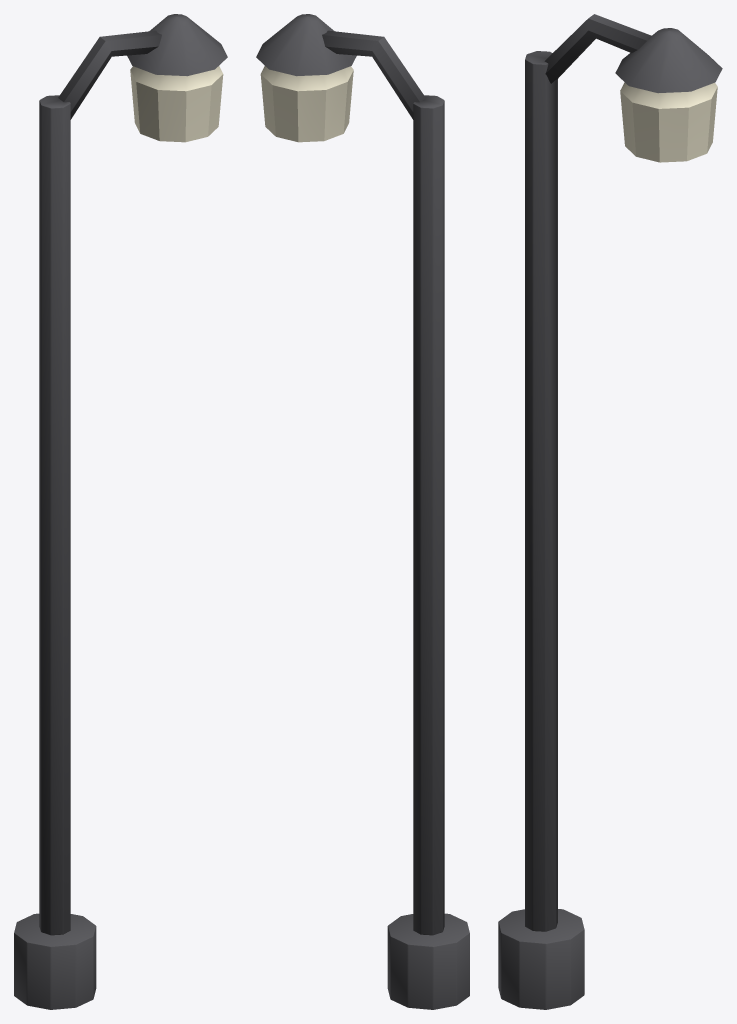
Rendered from lamppost.glb.
The picture shows the model from 3 angles, left to right: view 1: azimuth 30°, elevation 25°; view 2: azimuth 150°, elevation 25°; view 3: azimuth 330°, elevation 25°; orthographic projection. The views are drawn at different scales.
Visible parts, largest first — view 1: boat_ironb, boat_lampglass; view 2: boat_ironb, boat_lampglass; view 3: boat_ironb, boat_lampglass.
Part boxes in pixels (box(x1,y1,x2,y2)): boat_ironb: box(14, 14, 227, 1009); boat_lampglass: box(130, 66, 223, 142); boat_ironb: box(256, 14, 469, 1009); boat_lampglass: box(260, 66, 353, 142); boat_ironb: box(498, 14, 722, 1009); boat_lampglass: box(620, 82, 717, 162).
Size of the model in its own units: 0.9912 by 4.46 by 0.4185.
